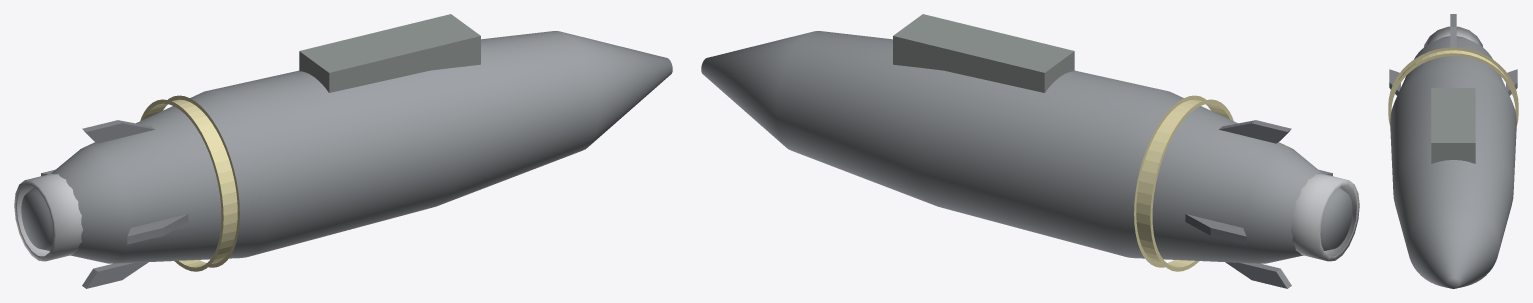
Rendered from US_SPECIAL_SDV_Mk8_LOD0.fbx.
The picture shows the model from 3 angles, left to right: view 1: azimuth 30°, elevation 25°; view 2: azimuth 150°, elevation 25°; view 3: azimuth 270°, elevation 25°; orthographic projection. The views are drawn at different scales.
Visible parts, largest first — view 1: WPN_US_SPECIAL_SDV_Mk8_LOD0_Body, WPN_US_SPECIAL_SDV_Mk8_LOD0_Shell, WPN_US_SPECIAL_SDV_Mk8_LOD0_Marking, WPN_US_SPECIAL_SDV_Mk8_LOD0_Propulsor, WPN_US_SPECIAL_SDV_Mk8_LOD0_Fins; view 2: WPN_US_SPECIAL_SDV_Mk8_LOD0_Body, WPN_US_SPECIAL_SDV_Mk8_LOD0_Shell, WPN_US_SPECIAL_SDV_Mk8_LOD0_Marking, WPN_US_SPECIAL_SDV_Mk8_LOD0_Propulsor, WPN_US_SPECIAL_SDV_Mk8_LOD0_Fins; view 3: WPN_US_SPECIAL_SDV_Mk8_LOD0_Body, WPN_US_SPECIAL_SDV_Mk8_LOD0_Shell, WPN_US_SPECIAL_SDV_Mk8_LOD0_Marking, WPN_US_SPECIAL_SDV_Mk8_LOD0_Fins, WPN_US_SPECIAL_SDV_Mk8_LOD0_Propulsor.
Boxes of the visible parts, x1,y1,x2,y2 form: WPN_US_SPECIAL_SDV_Mk8_LOD0_Body: [21, 31, 672, 263]; WPN_US_SPECIAL_SDV_Mk8_LOD0_Shell: [299, 14, 480, 92]; WPN_US_SPECIAL_SDV_Mk8_LOD0_Marking: [140, 95, 239, 271]; WPN_US_SPECIAL_SDV_Mk8_LOD0_Propulsor: [14, 173, 82, 261]; WPN_US_SPECIAL_SDV_Mk8_LOD0_Fins: [41, 120, 188, 288]; WPN_US_SPECIAL_SDV_Mk8_LOD0_Body: [701, 31, 1352, 263]; WPN_US_SPECIAL_SDV_Mk8_LOD0_Shell: [893, 14, 1074, 92]; WPN_US_SPECIAL_SDV_Mk8_LOD0_Marking: [1134, 95, 1233, 271]; WPN_US_SPECIAL_SDV_Mk8_LOD0_Propulsor: [1291, 173, 1359, 261]; WPN_US_SPECIAL_SDV_Mk8_LOD0_Fins: [1185, 120, 1332, 288]; WPN_US_SPECIAL_SDV_Mk8_LOD0_Body: [1390, 36, 1516, 288]; WPN_US_SPECIAL_SDV_Mk8_LOD0_Shell: [1431, 88, 1475, 163]; WPN_US_SPECIAL_SDV_Mk8_LOD0_Marking: [1388, 47, 1518, 126]; WPN_US_SPECIAL_SDV_Mk8_LOD0_Fins: [1389, 14, 1517, 95]; WPN_US_SPECIAL_SDV_Mk8_LOD0_Propulsor: [1424, 26, 1482, 47].
Bounding box in the file's own units: 6.41 × 1.54 × 1.65.
